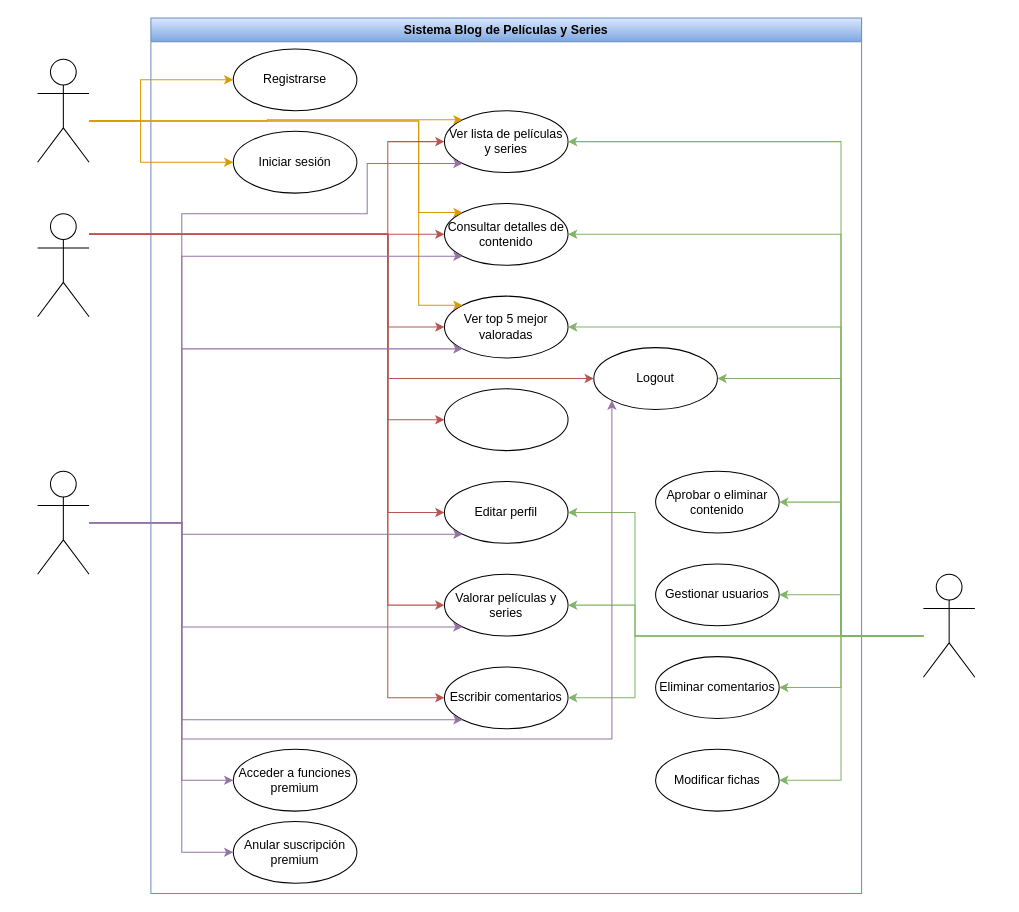
This 1019x912 diagram has some shape labels left out. The shapes that lost their labels are listed below. From the top down, each one's centre as x and y in pixels, then its label:
At (x=63, y=110): "Usuario visitante".
At (x=63, y=265): "Usuario Registrado".
At (x=505, y=419): "Suscribirse como premium".
At (x=63, y=522): "Usuario Premium".
At (x=948, y=625): "ADMINISTRADOR".
